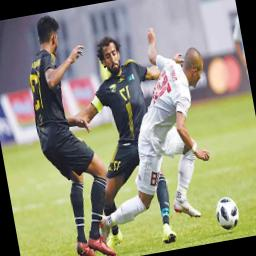football: (211, 192, 244, 235)
